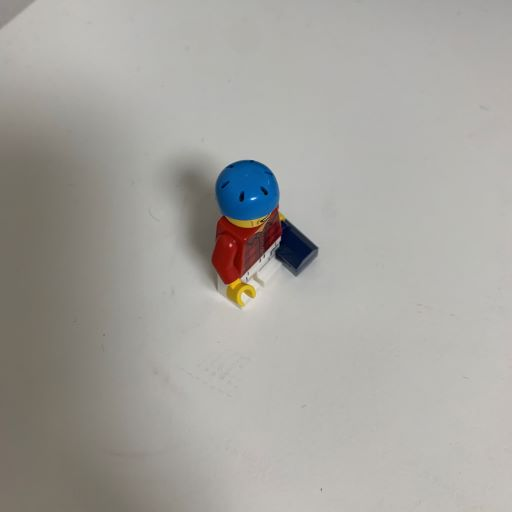human: (196, 153, 323, 316)
